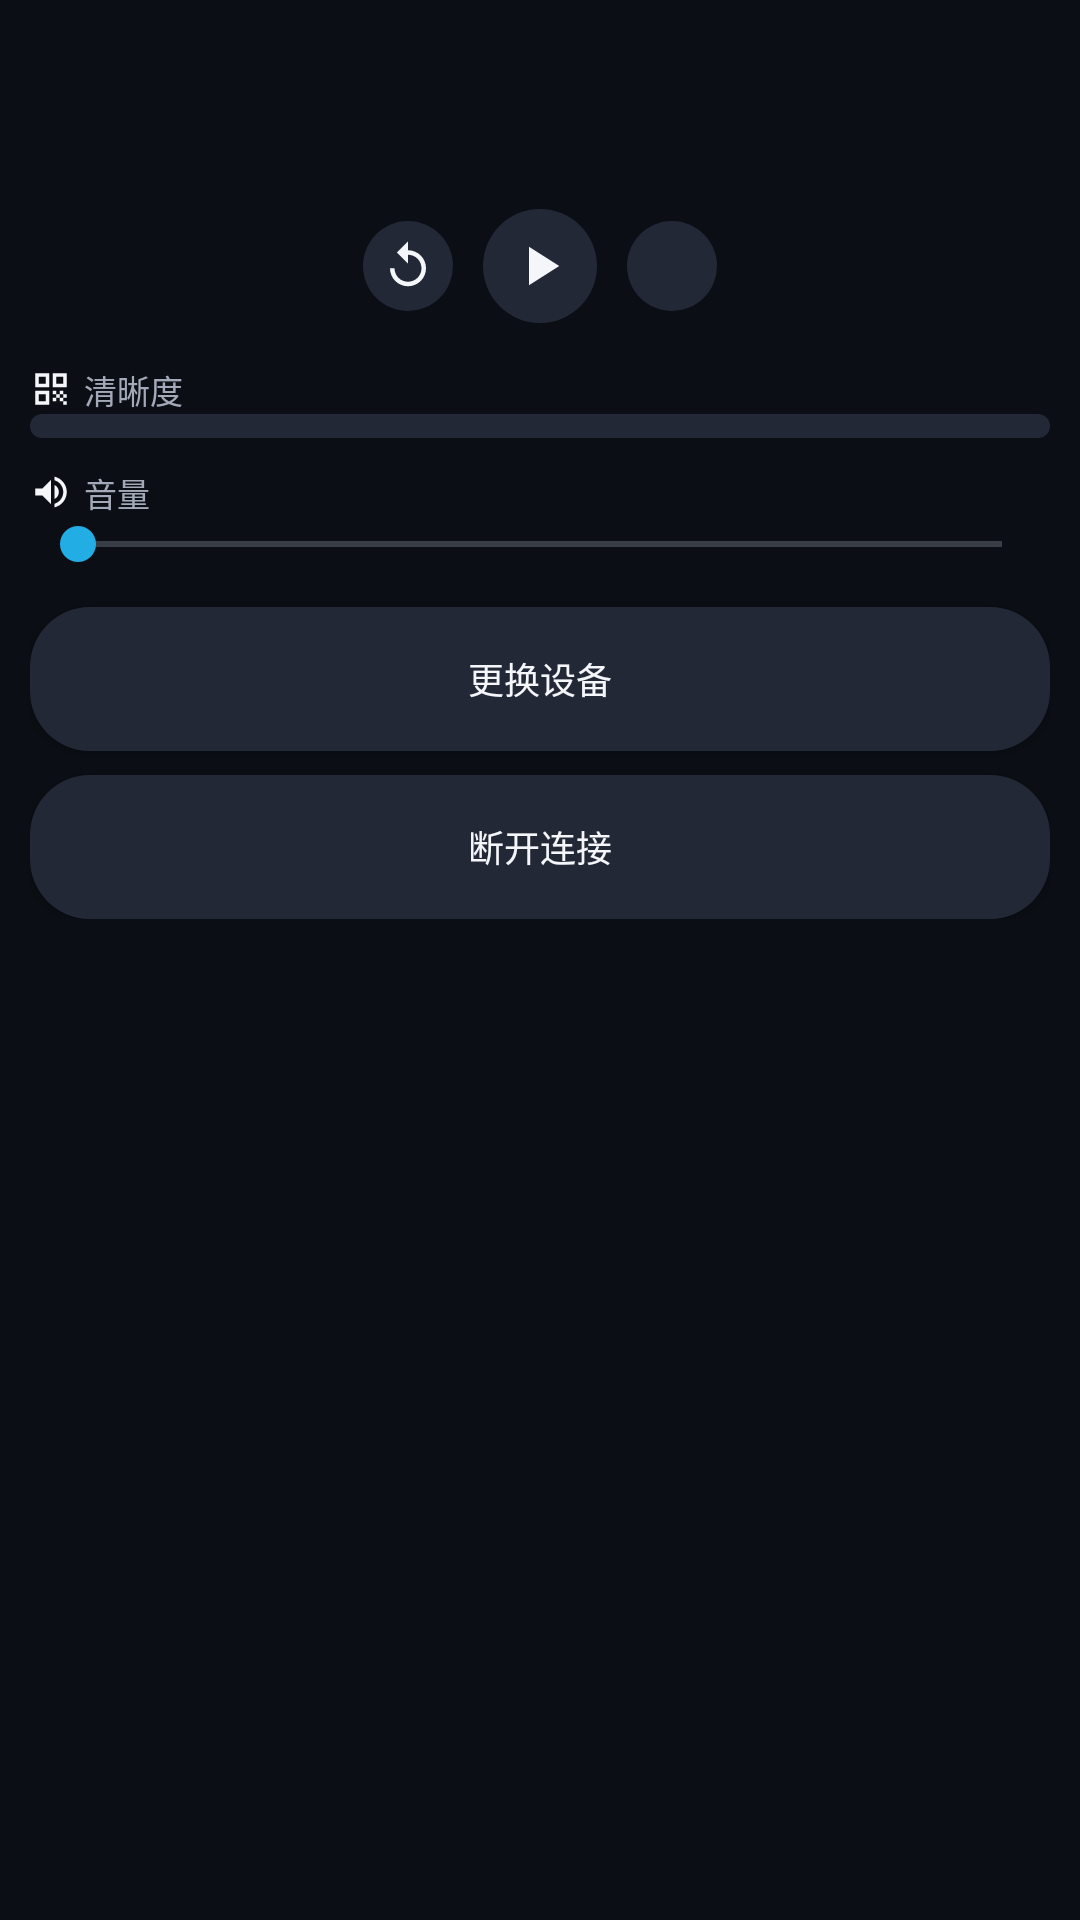

Named icons in this screenshot (1080px×1920px) and their centers, [x,y]:
qrcode: [51,389]
快退: [408,266]
播放: [540,266]
